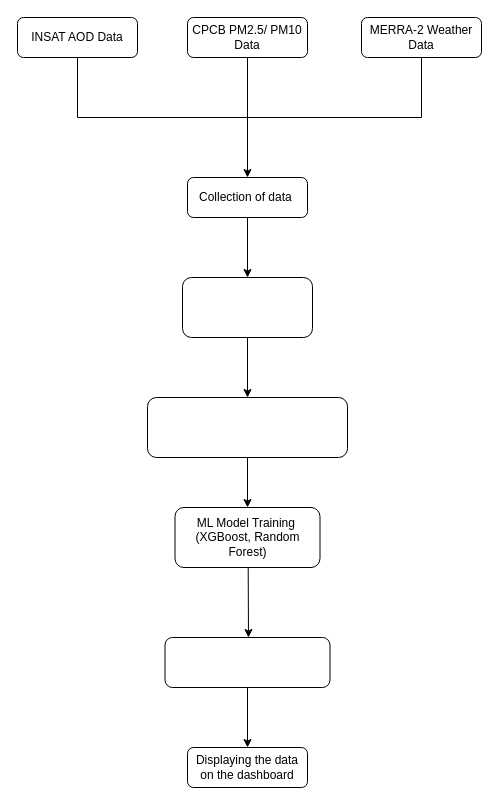
The diagram is 499 pixels wide and 805 high, and some of its shapes have lost their labels. Here are the shapes that lost their labels. From the top down, the centre of each, then its label:
At point (247, 307): "Data Ingestion and Preprocessing".
At point (247, 427): "Feature Engineering (Interpolation, merging etc.)".
At point (247, 662): "Predictions Based on the historical and present Data".
